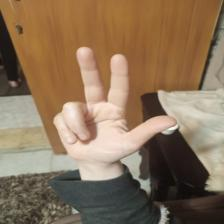three: (49, 46, 182, 168)
